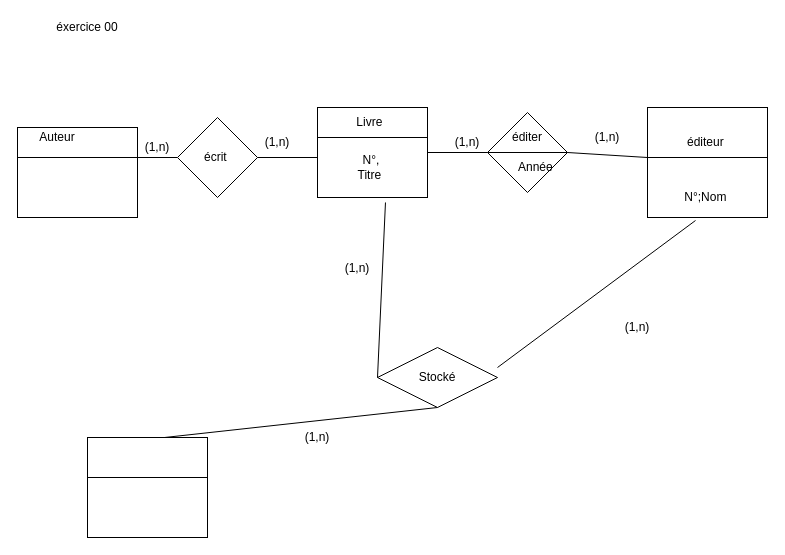
The diagram is 785 pixels wide and 555 high, and some of its shapes have lost their labels. The centre of each missing label's shape, as x and y in pixels:
"Dépot" goes at point 147,457.
"N°.Nom" goes at point 147,507.
"N°Nom" goes at point 77,187.
